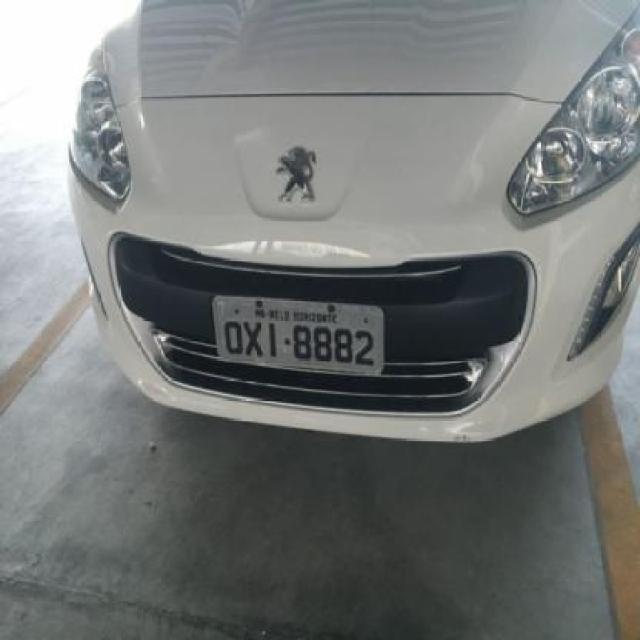old_plate: (205, 292, 392, 383)
